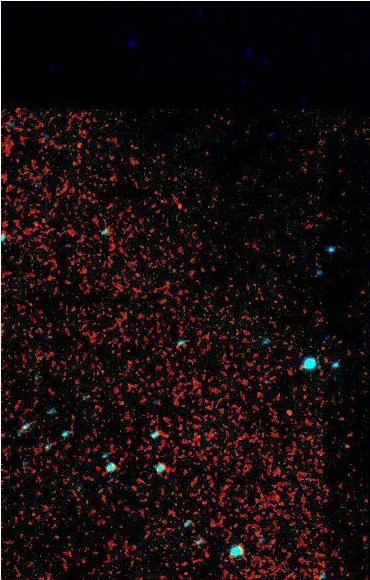star: (272, 401, 302, 431)
